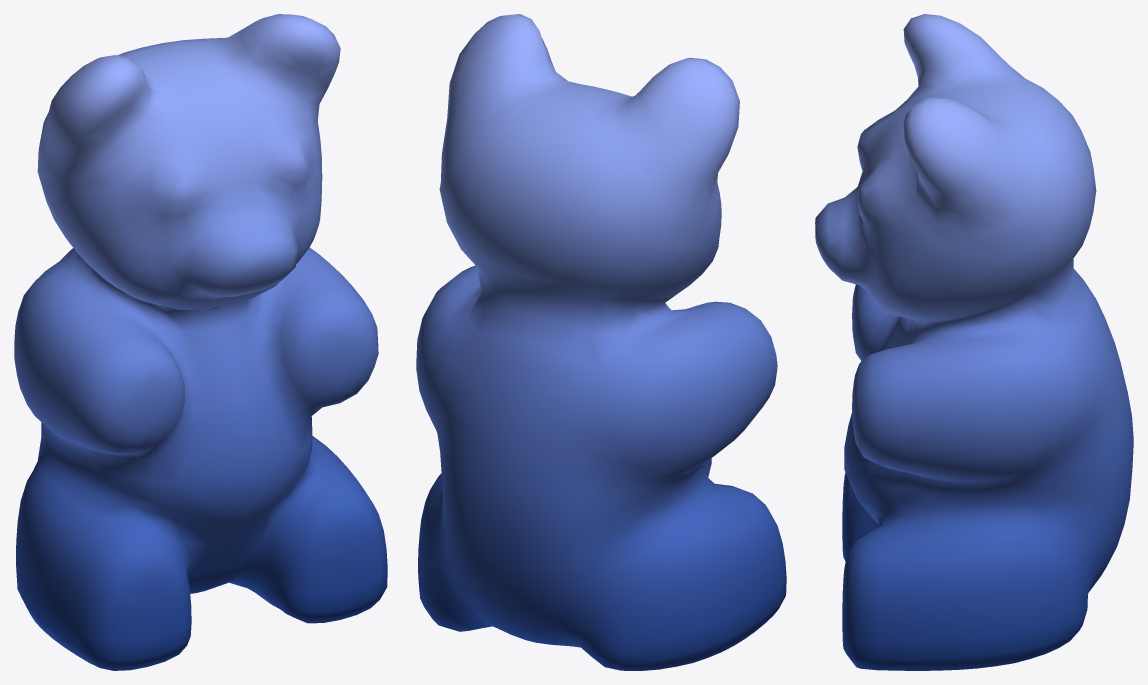
Rendered from candy_glass_14.fbx.
The picture shows the model from 3 angles, left to right: view 1: azimuth 30°, elevation 25°; view 2: azimuth 150°, elevation 25°; view 3: azimuth 270°, elevation 25°; orthographic projection. The views are drawn at different scales.
Visible parts, largest first — view 1: c_g_14; view 2: c_g_14; view 3: c_g_14.
Part boxes in pixels (box(x1,y1,x2,y2)): c_g_14: box(14, 14, 387, 670); c_g_14: box(416, 14, 786, 670); c_g_14: box(815, 14, 1133, 670).
Bounding box in the file's own units: 139 × 245 × 129.
